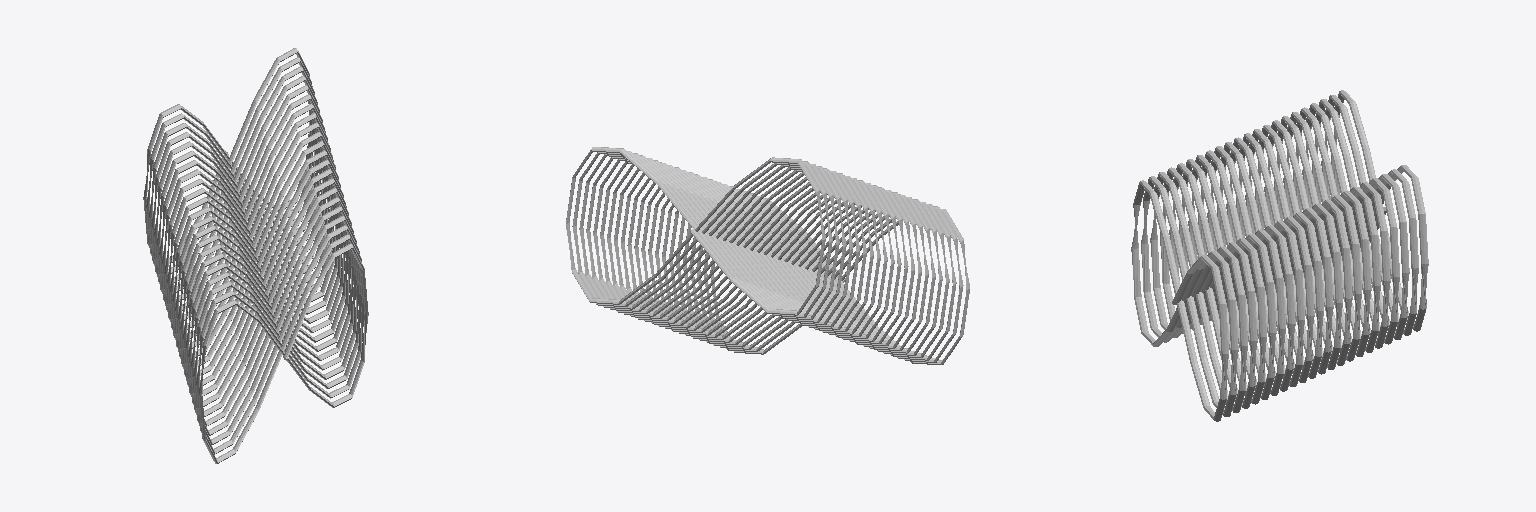
Rendered from fourTwo.obj.
The picture shows the model from 3 angles: view 1: azimuth 30°, elevation 25°; view 2: azimuth 150°, elevation 25°; view 3: azimuth 270°, elevation 25°; orthographic projection.
Visible parts, largest first — view 1: Sweep; view 2: Sweep; view 3: Sweep.
Part boxes in pixels (left/top/right/bottom): Sweep: left=143, top=48, right=368, bottom=463; Sweep: left=566, top=147, right=969, bottom=364; Sweep: left=1131, top=90, right=1428, bottom=421.
Size of the model in its own units: 1.2 by 1.2 by 1.2.